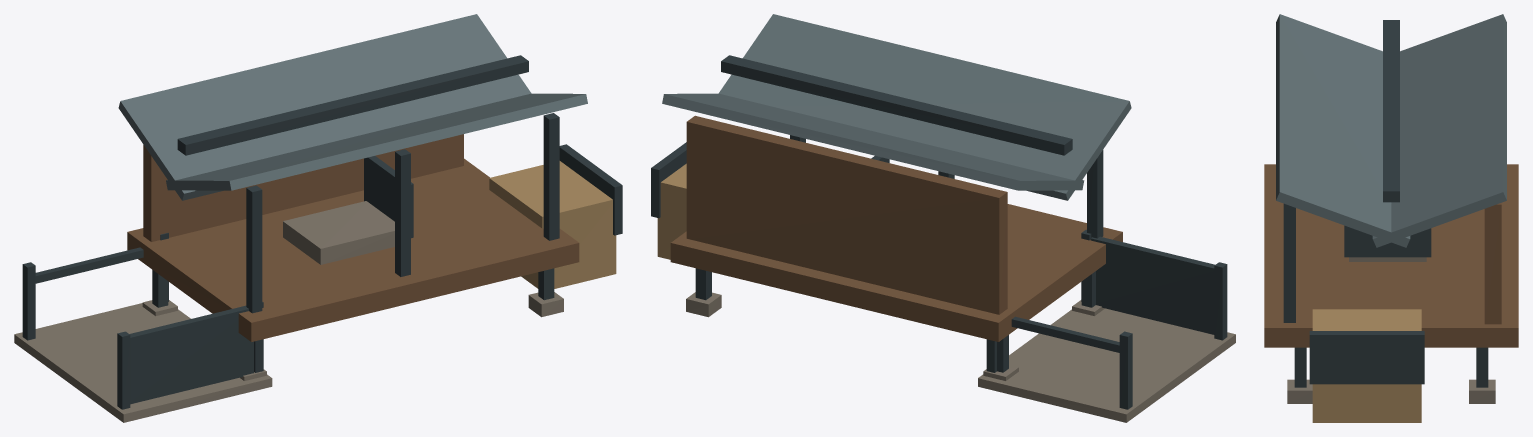
File: Shearing-Shed.glb
3 renders of one model, left to right at view 1: azimuth 30°, elevation 25°; view 2: azimuth 150°, elevation 25°; view 3: azimuth 270°, elevation 25°, orthographic. The views are drawn at different scales.
Parts seen in each view (by area): view 1: wind-pump-static-shearing-shed-weathered-timber, wind-pump-static-shearing-shed-galvanized-roof, wind-pump-static-shearing-shed-dark-iron, wind-pump-static-shearing-shed-stone-feet, wind-pump-static-shearing-shed-wool-sorting-bay; view 2: wind-pump-static-shearing-shed-weathered-timber, wind-pump-static-shearing-shed-galvanized-roof, wind-pump-static-shearing-shed-dark-iron, wind-pump-static-shearing-shed-stone-feet, wind-pump-static-shearing-shed-wool-sorting-bay; view 3: wind-pump-static-shearing-shed-galvanized-roof, wind-pump-static-shearing-shed-weathered-timber, wind-pump-static-shearing-shed-dark-iron, wind-pump-static-shearing-shed-wool-sorting-bay, wind-pump-static-shearing-shed-stone-feet.
Boxes of the visible parts, <box> form: wind-pump-static-shearing-shed-weathered-timber: <box>127,134,579,341</box>; wind-pump-static-shearing-shed-galvanized-roof: <box>118,14,587,200</box>; wind-pump-static-shearing-shed-dark-iron: <box>22,55,622,409</box>; wind-pump-static-shearing-shed-stone-feet: <box>14,201,563,422</box>; wind-pump-static-shearing-shed-wool-sorting-bay: <box>489,161,616,288</box>; wind-pump-static-shearing-shed-weathered-timber: <box>670,115,1122,341</box>; wind-pump-static-shearing-shed-galvanized-roof: <box>662,14,1131,200</box>; wind-pump-static-shearing-shed-dark-iron: <box>651,55,1227,409</box>; wind-pump-static-shearing-shed-stone-feet: <box>686,292,1235,422</box>; wind-pump-static-shearing-shed-wool-sorting-bay: <box>657,163,686,259</box>; wind-pump-static-shearing-shed-galvanized-roof: <box>1276,14,1506,247</box>; wind-pump-static-shearing-shed-weathered-timber: <box>1264,164,1518,347</box>; wind-pump-static-shearing-shed-dark-iron: <box>1283,20,1488,387</box>; wind-pump-static-shearing-shed-wool-sorting-bay: <box>1312,309,1421,422</box>; wind-pump-static-shearing-shed-stone-feet: <box>1287,257,1495,403</box>.
Size of the model in its own units: 5.02 by 2.01 by 2.1.
